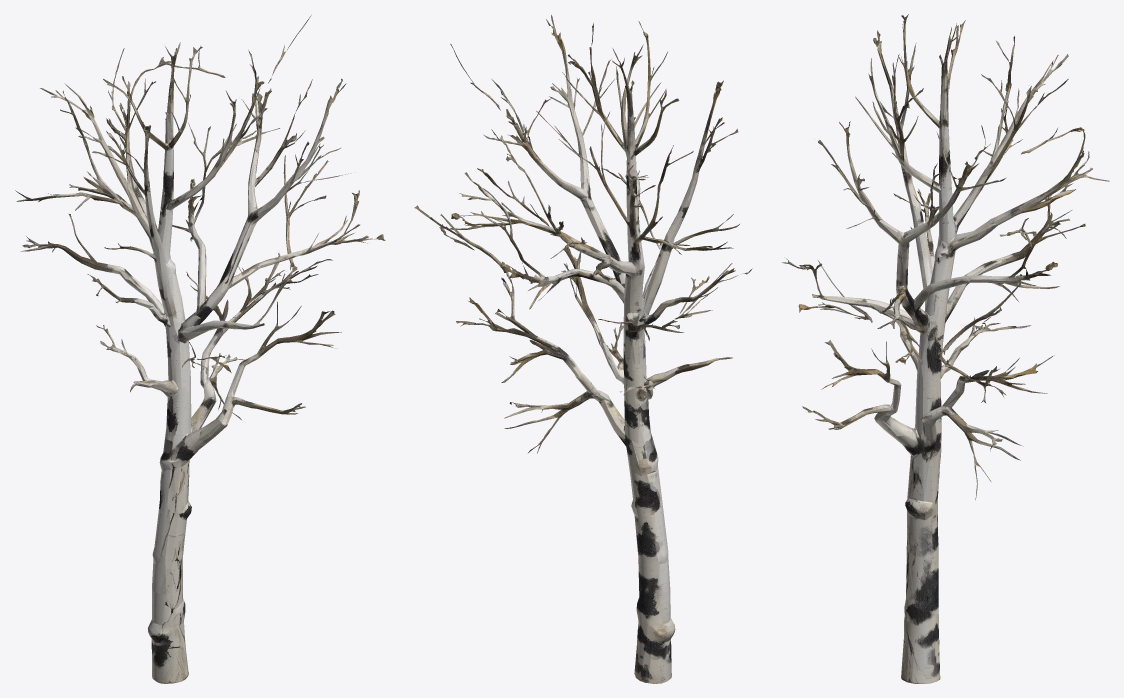
3 views of the same model, side by side, from view 1: azimuth 30°, elevation 25°; view 2: azimuth 150°, elevation 25°; view 3: azimuth 270°, elevation 25° (orthographic). The views are drawn at different scales.
Size of the model in its own units: 0.9031 by 1.69 by 0.7437.
1 material, 1 textured.
